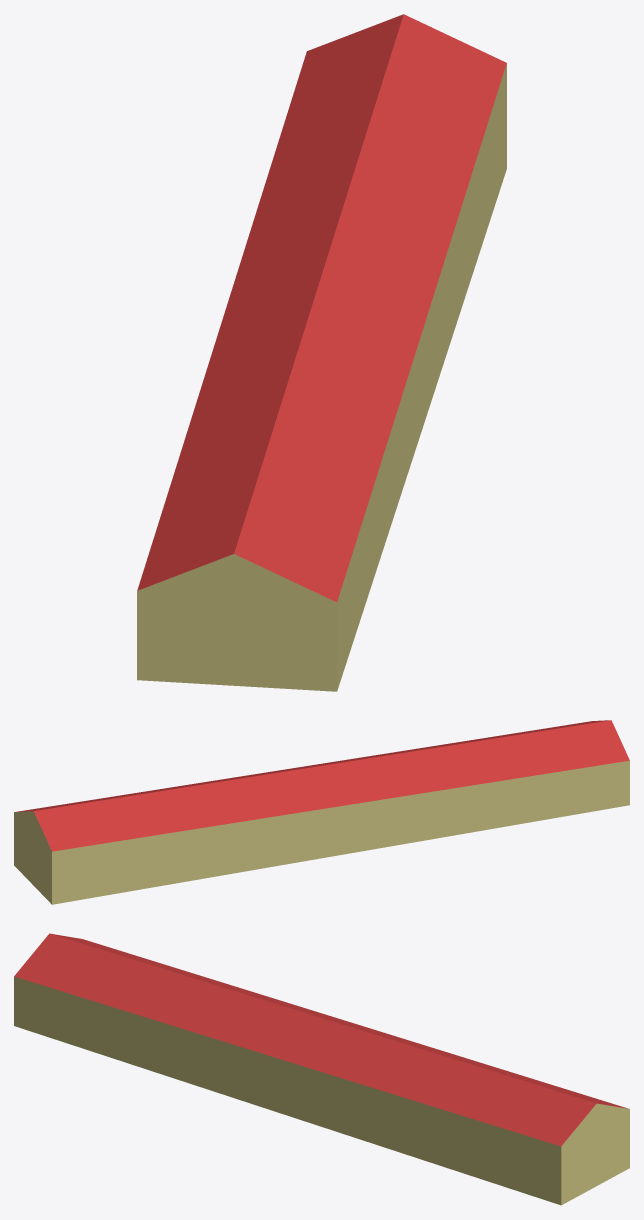
3 views of the same model, one above another, from view 1: azimuth 30°, elevation 25°; view 2: azimuth 150°, elevation 25°; view 3: azimuth 270°, elevation 25° (orthographic). The views are drawn at different scales.
Bounding box in the file's own units: 46.71 × 56.06 × 8.31.
